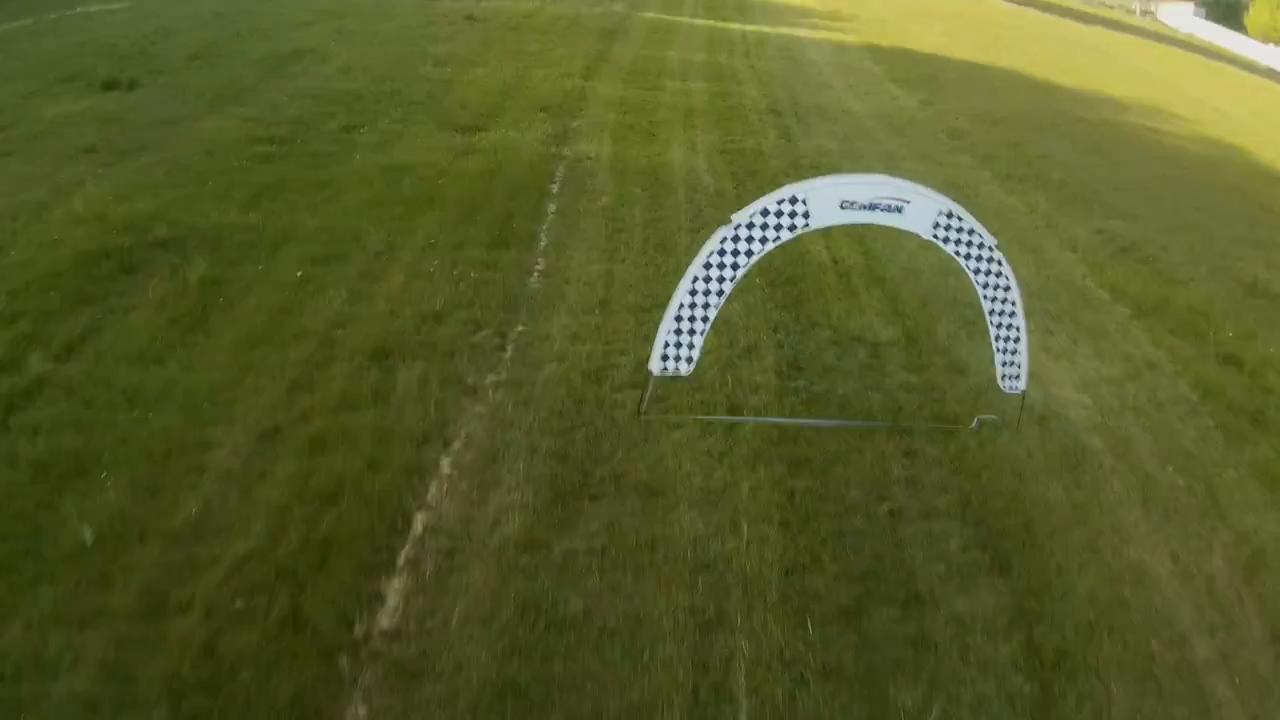gate: (644, 167, 1028, 392)
